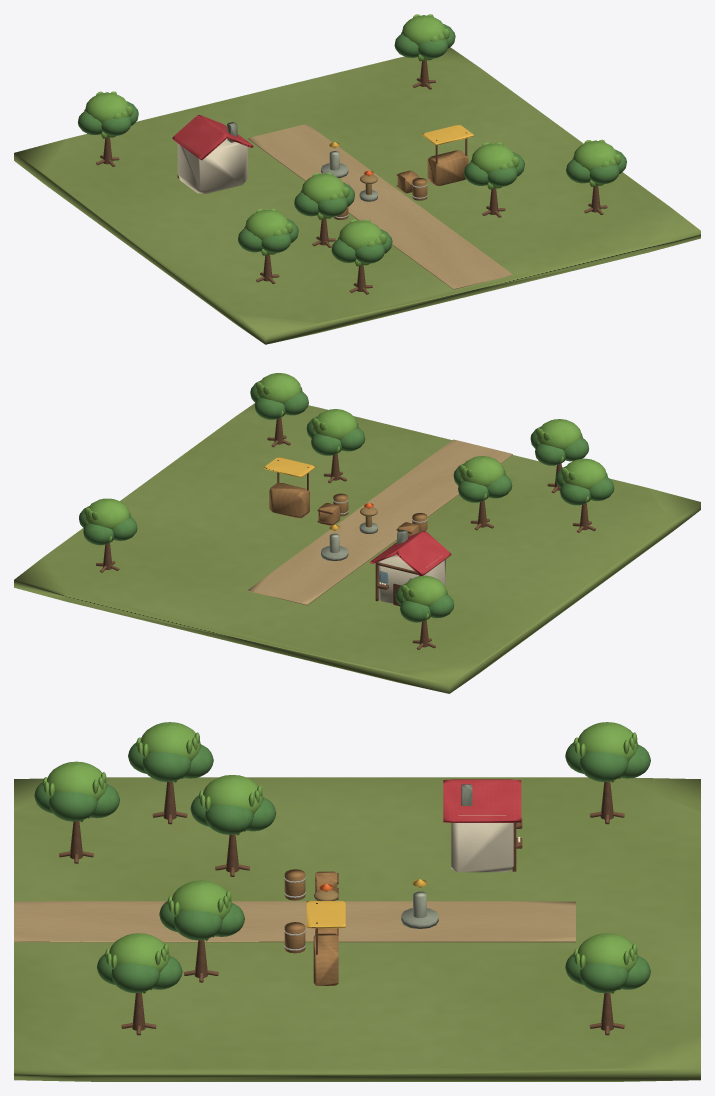
File: hillside_refuge.glb
3 views of the same model, one above another, from view 1: azimuth 30°, elevation 25°; view 2: azimuth 150°, elevation 25°; view 3: azimuth 270°, elevation 25° (orthographic). The views are drawn at different scales.
Visible parts, largest first — view 1: hillside_refuge_StaticBatch; view 2: hillside_refuge_StaticBatch; view 3: hillside_refuge_StaticBatch.
Part boxes in pixels (box(x1,y1,x2,y2)): hillside_refuge_StaticBatch: box(14, 14, 700, 344); hillside_refuge_StaticBatch: box(14, 373, 700, 693); hillside_refuge_StaticBatch: box(14, 722, 700, 1081).
Bounding box in the file's own units: 22 × 3.72 × 22.
Materials: 1 (1 with a texture image).
